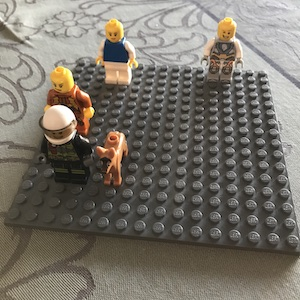Lego: (37, 105, 94, 187), (44, 65, 95, 138), (199, 17, 244, 87), (93, 17, 138, 86)
